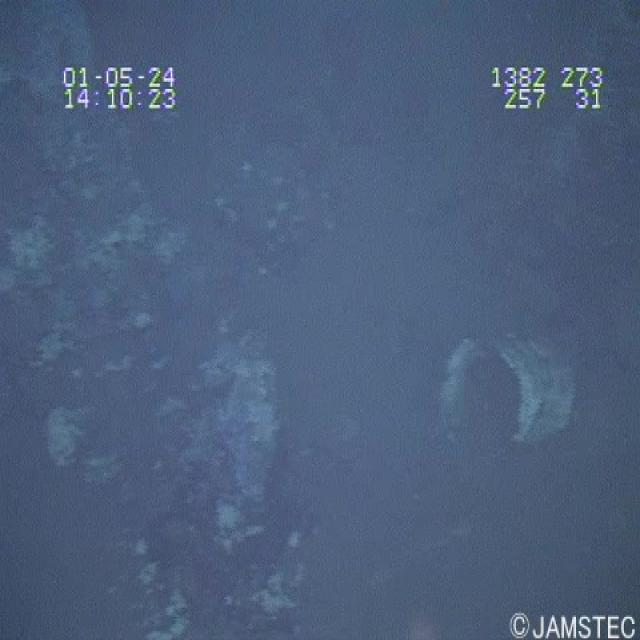plastic: (437, 318, 587, 464)
